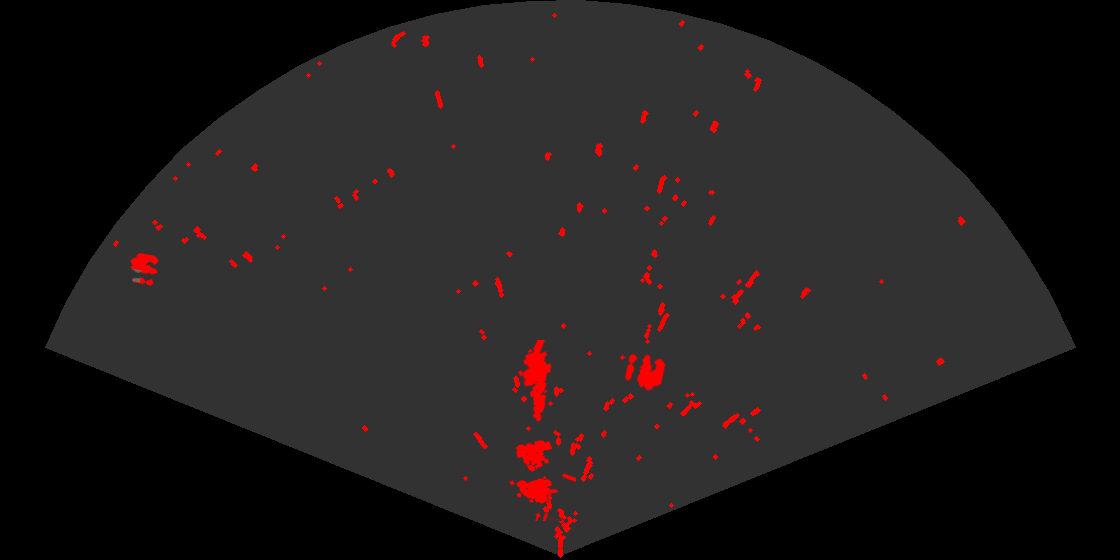ball: (623, 352, 667, 392), (129, 251, 160, 287)
cage: (508, 438, 576, 521)
frogman: (516, 340, 553, 423)
